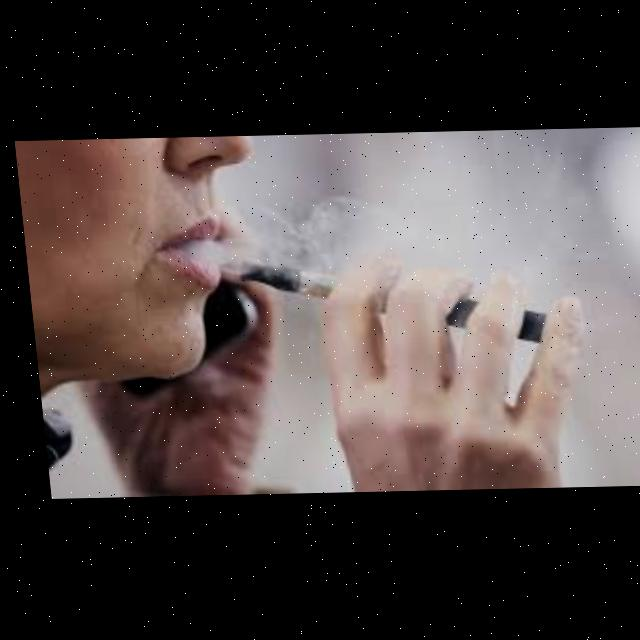vape: (234, 256, 549, 351)
